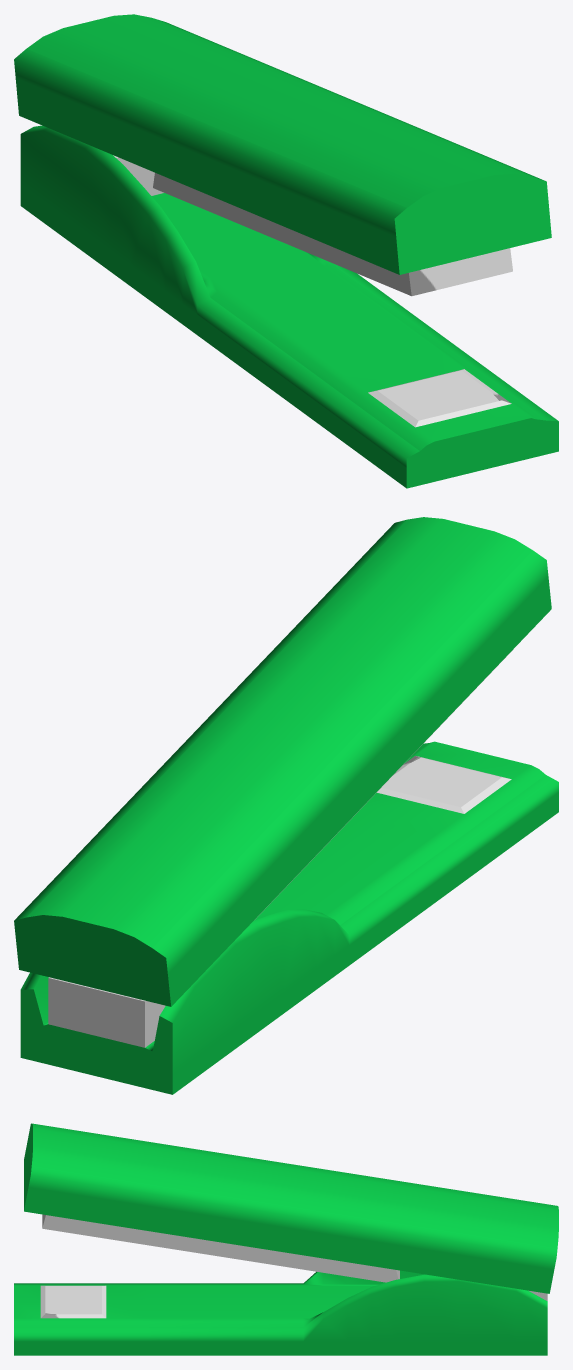
Rendered from Stapler.fbx.
3 views of the same model, one above another, from view 1: azimuth 30°, elevation 25°; view 2: azimuth 150°, elevation 25°; view 3: azimuth 270°, elevation 25° (orthographic). The views are drawn at different scales.
Parts seen in each view (by area): view 1: pCube3; view 2: pCube3; view 3: pCube3.
Boxes of the visible parts, x1,y1,x2,y2 form: pCube3: (14, 14, 558, 488); pCube3: (14, 517, 558, 1094); pCube3: (14, 1123, 558, 1355).
Size of the model in its own units: 0.8096 by 1.42 by 3.63.
1 material, 1 textured.
